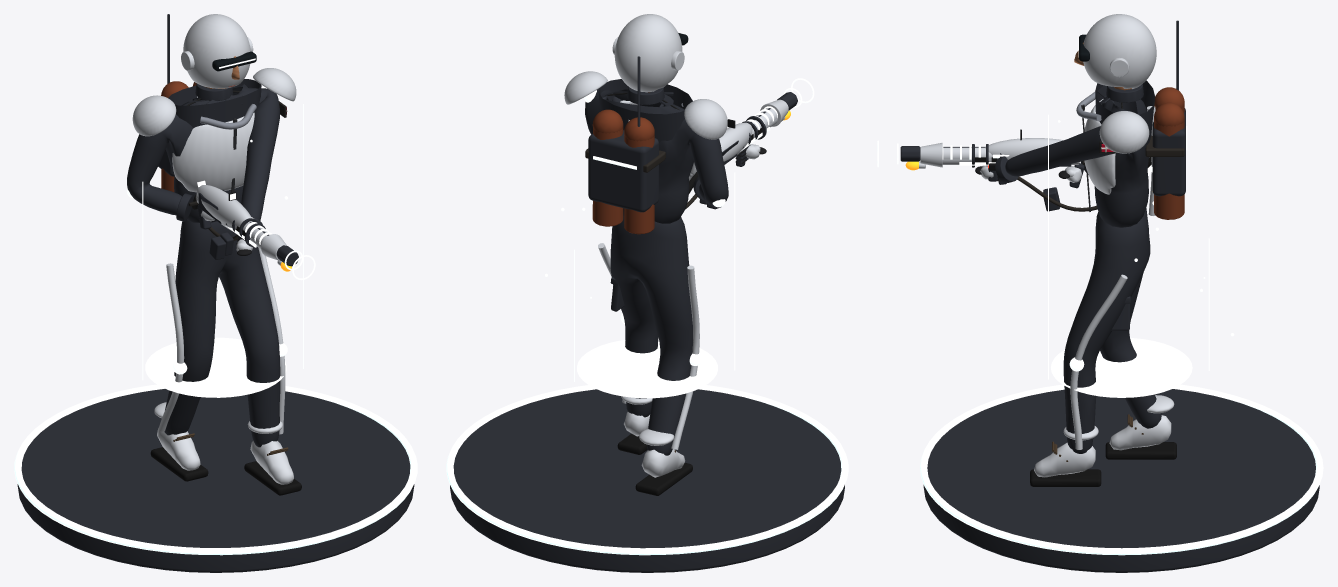
File: braender_krom.glb
The picture shows the model from 3 angles, left to right: view 1: azimuth 30°, elevation 25°; view 2: azimuth 150°, elevation 25°; view 3: azimuth 270°, elevation 25°; orthographic projection.
Visible parts, largest first — view 1: fod_net, menneske_net, op2.001_net, op4.001_net, hoved_net, op4_net, op2_net, vaaben_net, op4.002_net, op3_net; view 2: fod_net, menneske_net, op4.001_net, op3.001_net, hoved_net, op2.001_net, op4_net, op2_net, vaaben_net, op4.002_net; view 3: fod_net, menneske_net, op4.001_net, hoved_net, op2.001_net, op3.001_net, op4_net, op1.001_net, op2_net, vaaben_net.
Part boxes in pixels (x1,y1,x2,y2): fod_net: [14, 384, 417, 572]; menneske_net: [127, 79, 301, 495]; op2.001_net: [132, 68, 296, 453]; op4.001_net: [142, 104, 303, 397]; hoved_net: [181, 14, 256, 88]; op4_net: [127, 86, 287, 434]; op2_net: [196, 185, 251, 247]; vaaben_net: [192, 190, 291, 271]; op4.002_net: [209, 217, 315, 280]; op3_net: [197, 180, 298, 266]; fod_net: [446, 385, 848, 572]; menneske_net: [585, 79, 766, 495]; op4.001_net: [545, 172, 735, 398]; op3.001_net: [588, 56, 658, 212]; hoved_net: [612, 14, 688, 92]; op2.001_net: [564, 71, 727, 180]; op4_net: [584, 90, 725, 449]; op2_net: [719, 119, 752, 166]; vaaben_net: [688, 99, 790, 194]; op4.002_net: [709, 78, 814, 209]; fod_net: [920, 384, 1323, 572]; menneske_net: [975, 80, 1184, 486]; op4.001_net: [1048, 114, 1234, 397]; hoved_net: [1074, 14, 1156, 88]; op2.001_net: [1052, 91, 1149, 451]; op3.001_net: [1152, 20, 1187, 196]; op4_net: [1069, 106, 1155, 449]; op1.001_net: [943, 144, 1097, 211]; op2_net: [985, 129, 1062, 184]; vaaben_net: [905, 143, 1151, 188].
Size of the model in its own units: 1.94 by 2.51 by 2.14.
